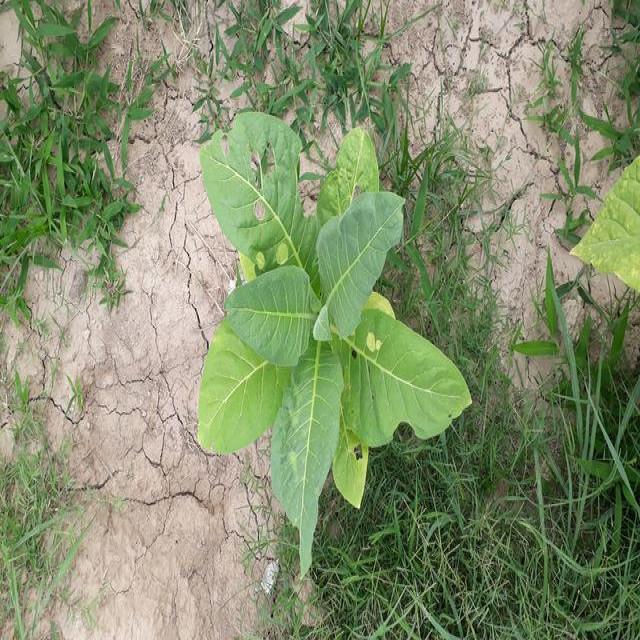crop: (191, 115, 468, 550)
